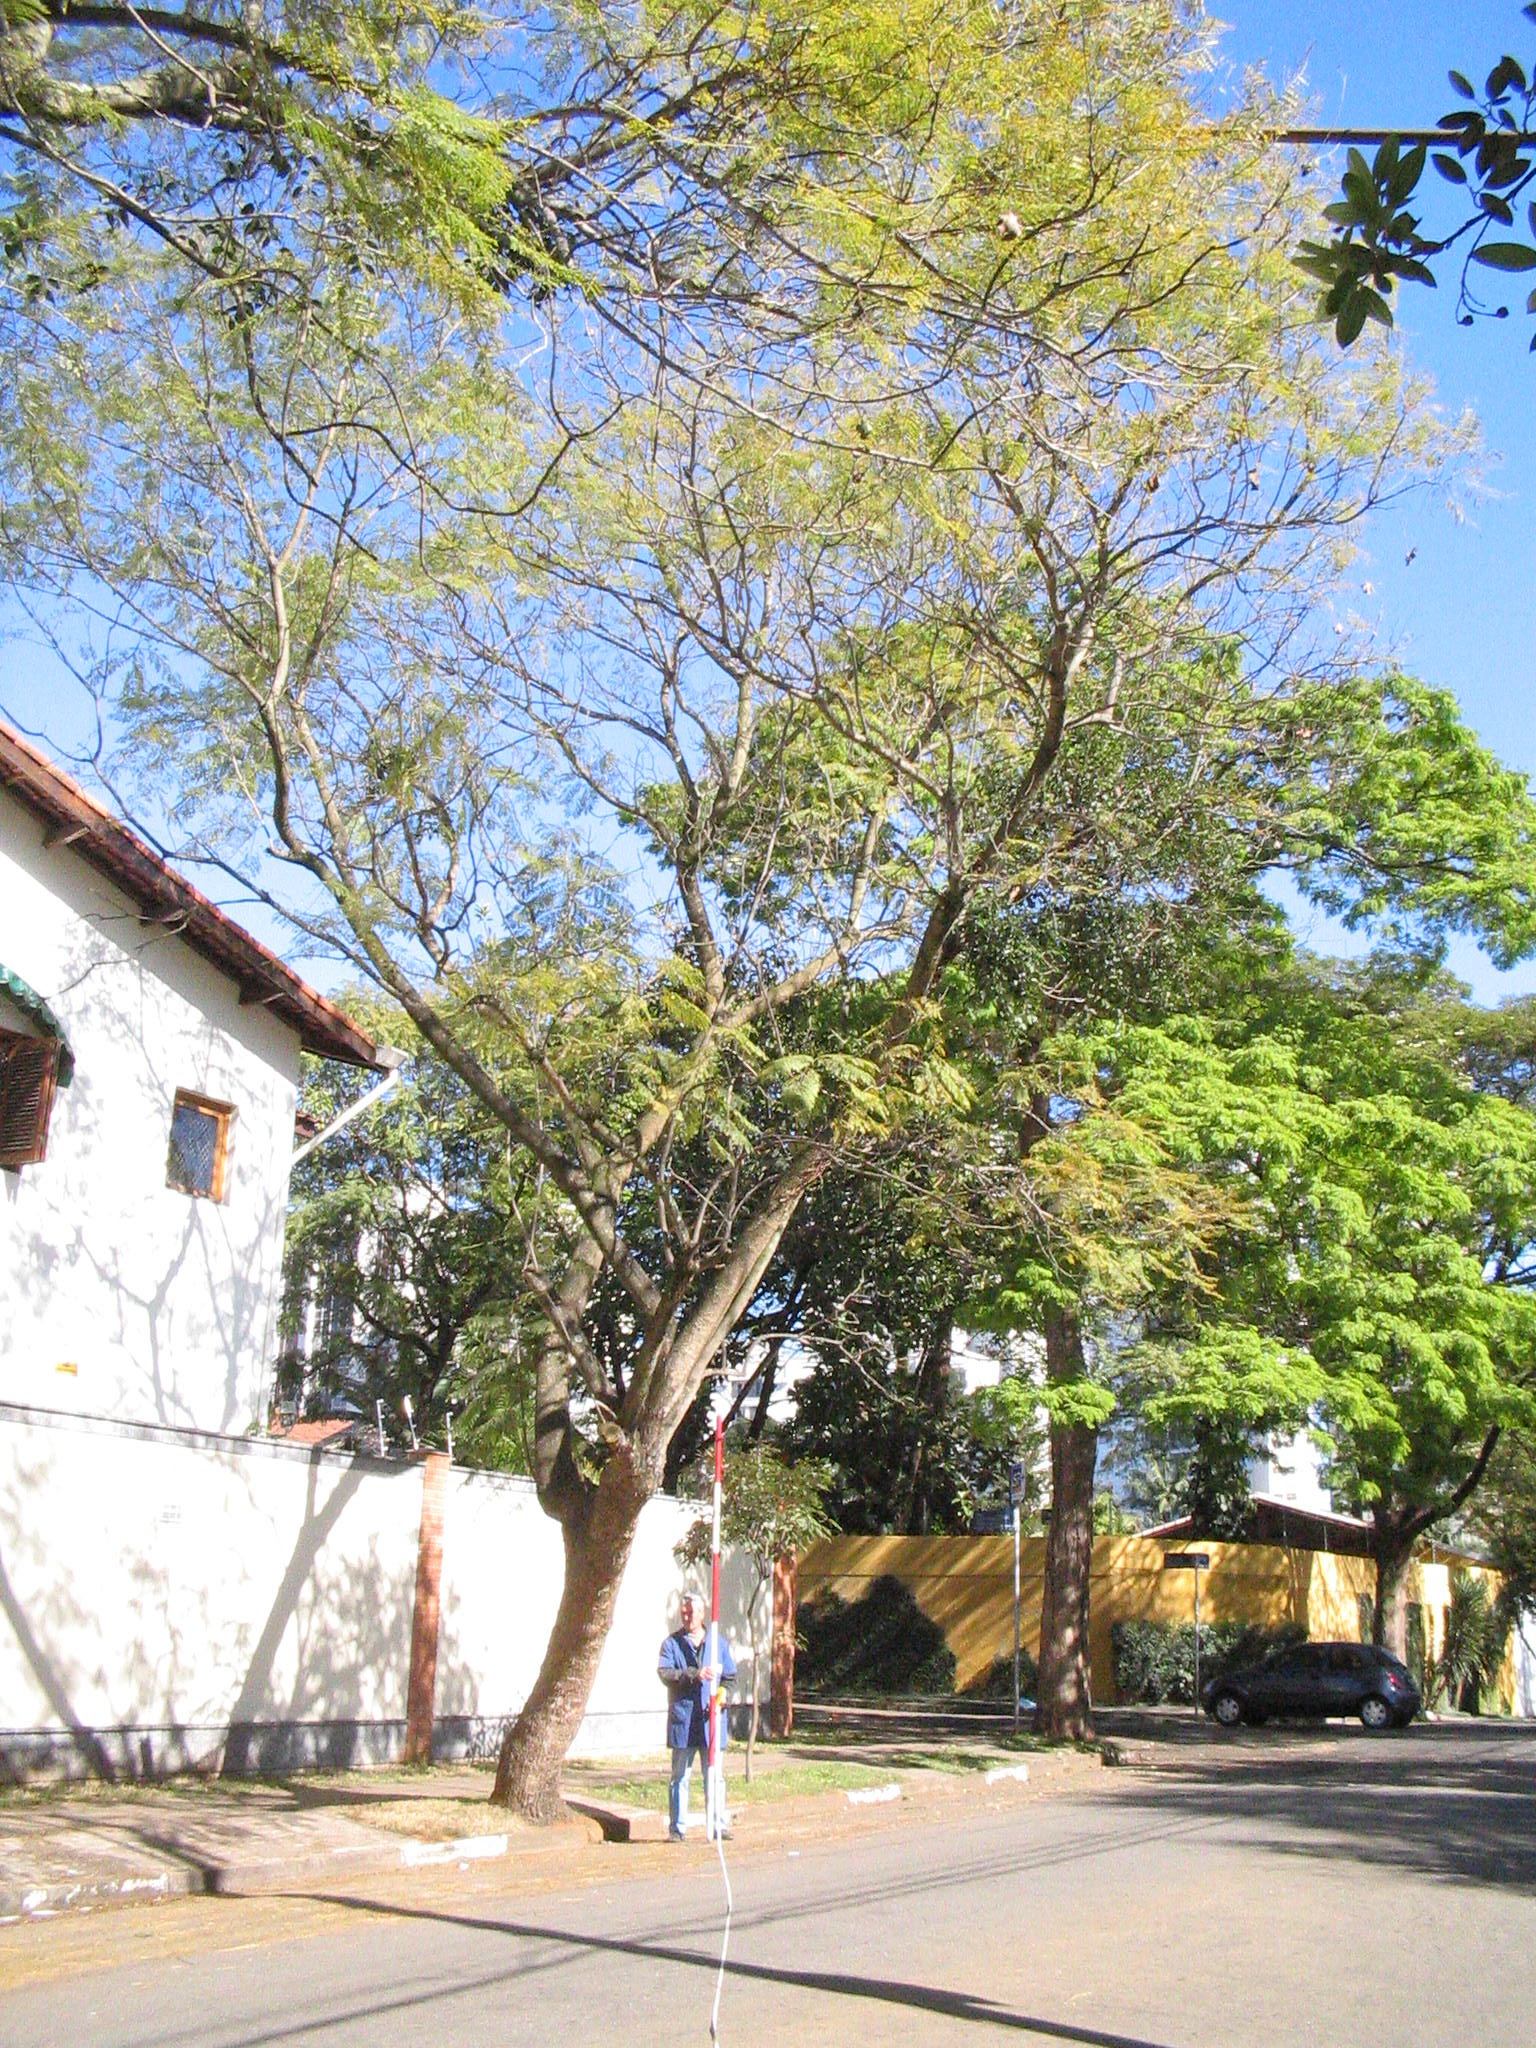crown: (31, 8, 1499, 1021)
stem: (457, 1516, 666, 1813), (983, 1445, 1146, 1742)
stick: (678, 1413, 765, 1843)
tree: (19, 5, 1507, 1816), (770, 597, 1520, 1746)
